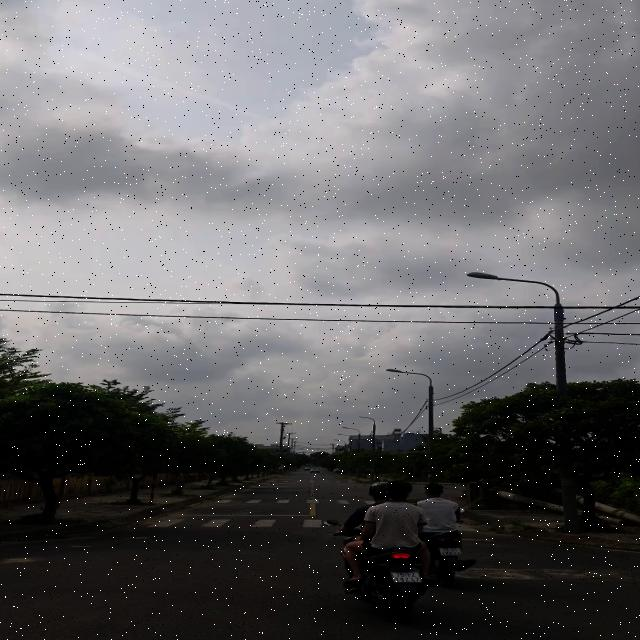helmet: (368, 481, 388, 500)
no_helmet: (420, 478, 448, 499)
